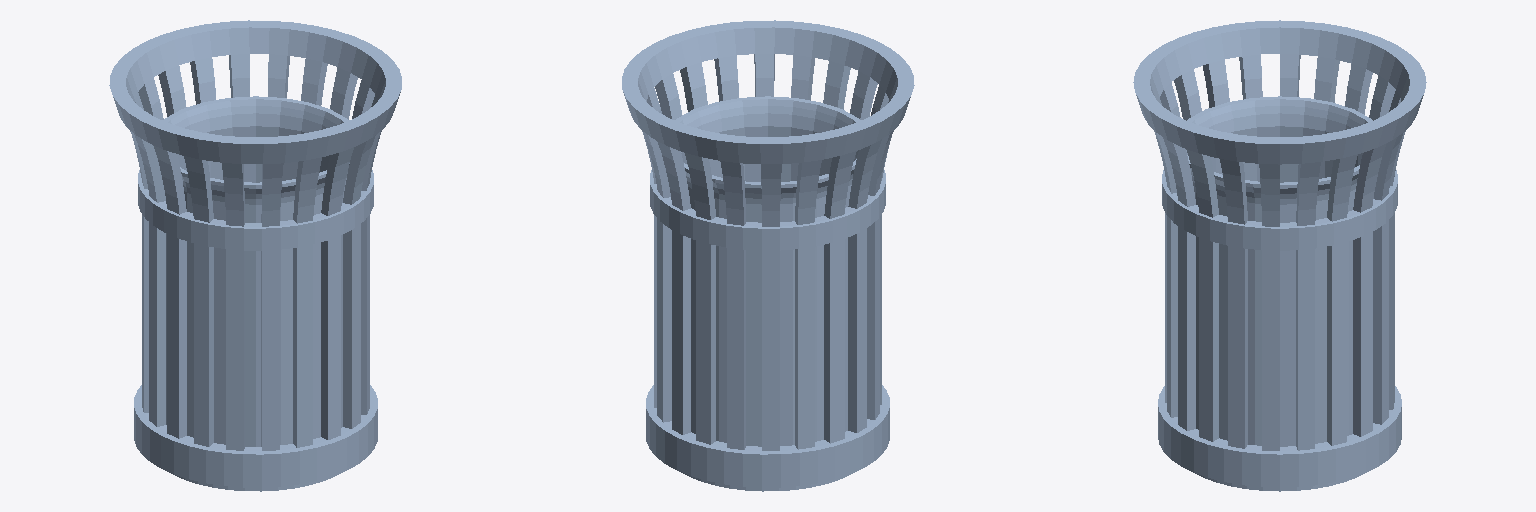
URDF robot description (trashcan.urdf):
<?xml version="1.0" ?>
<robot name="trashcan.urdf">
  <link name="baseLink">
      <contact>
      <lateral_friction value="1.0"/>
      <inertia_scaling value="3.0"/>
      <spinning_friction value="0.0"/>
      <contact_stiffness value="100000"/>
      <contact_damping value="0.1"/>
    </contact>
    <inertial>
      <origin rpy="0 0 0" xyz="-0.01 0 0.02"/>
       <mass value=".1"/>
       <inertia ixx="1" ixy="0" ixz="0" iyy="1" iyz="0" izz="1"/>
    </inertial>
    <visual>
       <origin rpy="0 0 0" xyz="0 0 0.09"/>
      <geometry>
        <mesh filename="trashcan_1.obj" scale="0.07 0.07 0.07"/>
      </geometry>
      <material name="light steel blue">
       <color rgba="0.690196078 0.7686274509 0.8705882352 1"/>
     </material>
    </visual>
    <collision>
      <origin rpy="0 0 0" xyz="0 0 0"/>
      <geometry>
	 	    <mesh filename="trashcan_1.obj" scale="0.07 0.07 0.07"/>
      </geometry>
        <surface>
    <contact>
      <ode>
        <min_depth>0.001</min_depth>
      </ode>
    </contact>
  </surface>
    </collision>
  </link>
</robot>
        

--- Facts derived from the render (not from the file) ---
Views: 3 orthographic renders of the robot side by side, from view 1: azimuth 30°, elevation 25°; view 2: azimuth 150°, elevation 25°; view 3: azimuth 270°, elevation 25°.
Robot: trashcan.urdf — 1 links, 0 joints (none); root link baseLink; default pose: all joints at 0.
Links seen in each view (by area): view 1: baseLink; view 2: baseLink; view 3: baseLink.
Link boxes in pixels (left/top/right/bottom): baseLink: left=109, top=20, right=401, bottom=491; baseLink: left=622, top=20, right=914, bottom=491; baseLink: left=1133, top=20, right=1426, bottom=491.
Bounding box of the posed robot: 0.2496 × 0.2496 × 0.3418 m (x, y, z).
Meshes: 1 distinct files referenced, 1 mesh visuals loaded (1 OBJ).